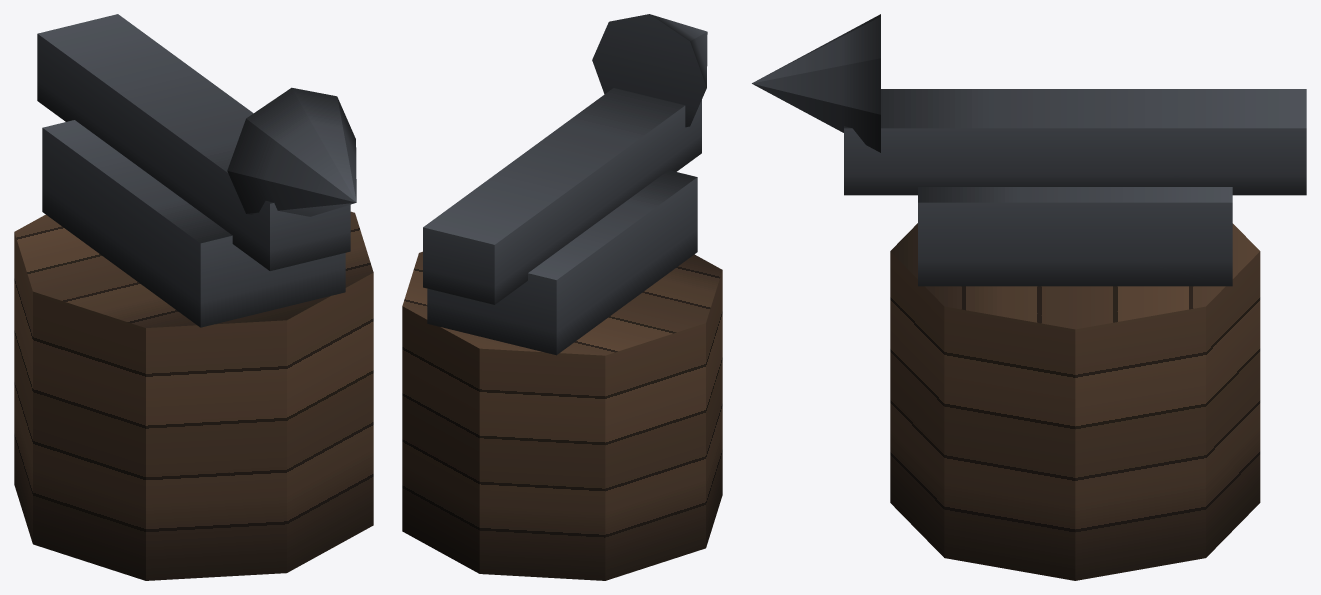
The model's file is anvil.glb.
3 renders of one model, left to right at view 1: azimuth 30°, elevation 25°; view 2: azimuth 150°, elevation 25°; view 3: azimuth 270°, elevation 25°, orthographic. The views are drawn at different scales.
Visible parts, largest first — view 1: anvil; view 2: anvil; view 3: anvil.
Part boxes in pixels (x1,y1,x2,y2): anvil: (14,14,373,580); anvil: (402,14,722,580); anvil: (752,14,1306,580).
Size of the model in its own units: 0.4 by 0.58 by 0.6.
1 material, 1 textured.
